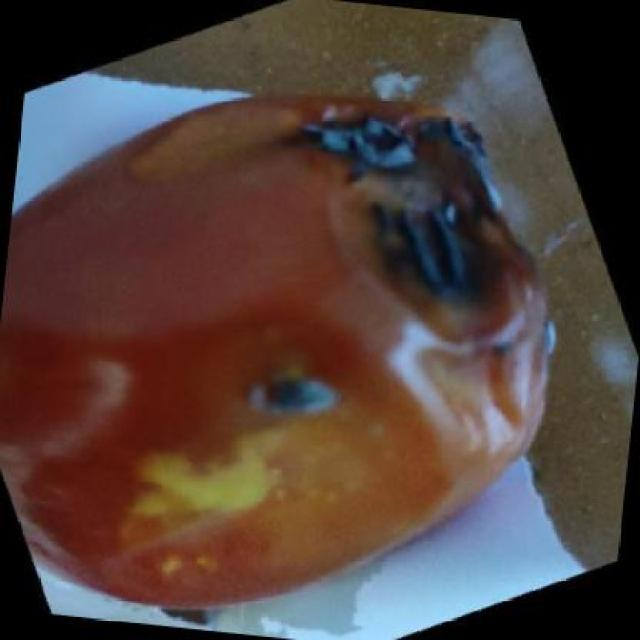overripe tomato: (0, 72, 556, 615)
